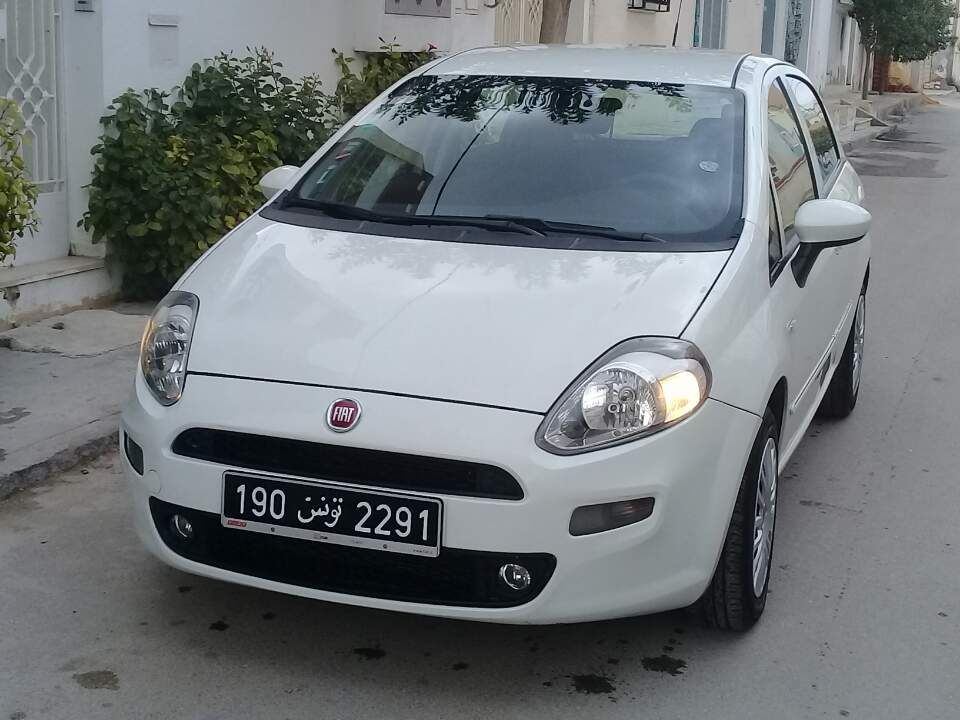LP: (224, 473, 439, 551)
